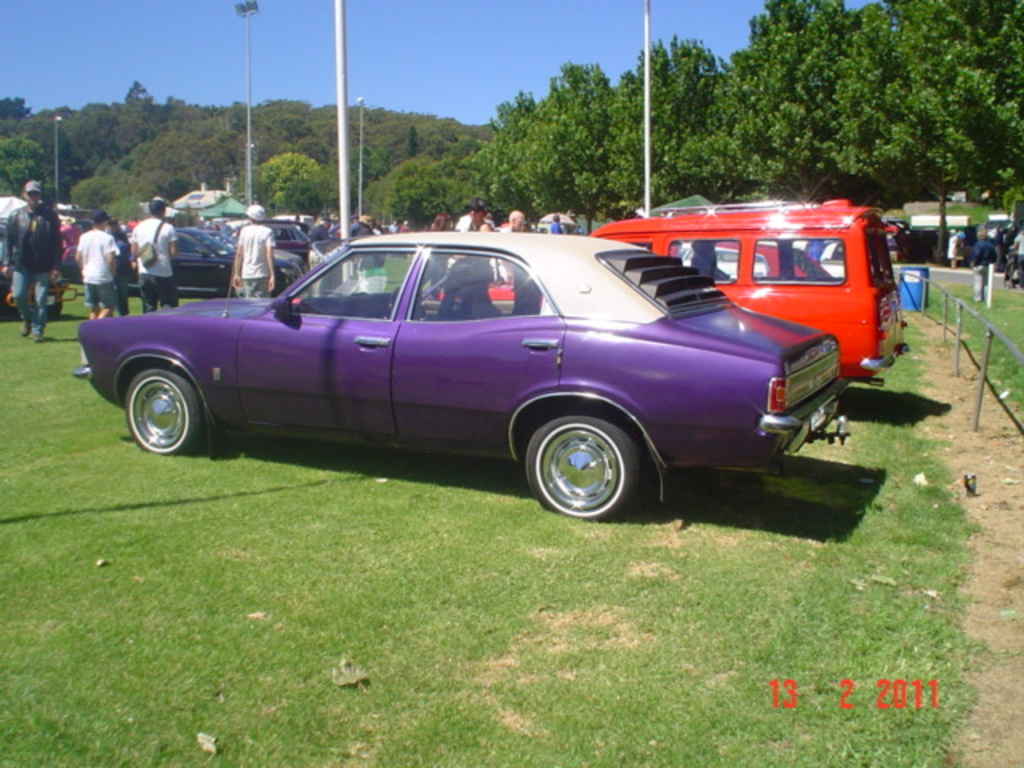Car: (80, 235, 852, 513), (436, 206, 907, 379), (176, 224, 299, 291)
